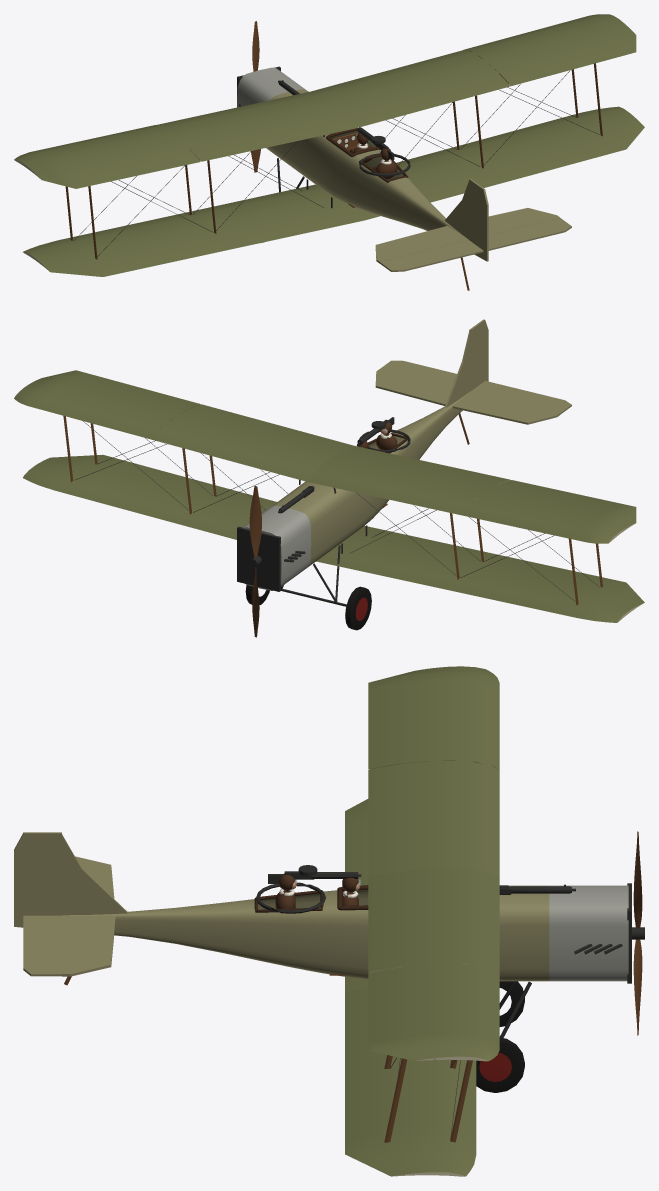
File: bristol_f2b.glb
3 renders of one model, top to bottom at view 1: azimuth 30°, elevation 25°; view 2: azimuth 150°, elevation 25°; view 3: azimuth 270°, elevation 25°, orthographic. The views are drawn at different scales.
Parts seen in each view (by area): view 1: Wing_Lower_L, Wing_Upper_R, Wing_Upper_L, Wing_Lower_R, Fuselage, Elevator, Aileron_L, Aileron_R, Stabilizer_L, Struts, Wires, Rudder (+5 smaller); view 2: Wing_Lower_L, Wing_Upper_R, Wing_Upper_L, Wing_Lower_R, Fuselage, Elevator, Engine, Stabilizer_L, Stabilizer_R, Struts, Wires, Aileron_L (+7 smaller); view 3: Fuselage, Wing_Upper_L, Wing_Upper_R, Wing_Lower_R, Rudder, Aileron_R, Aileron_L, Stabilizer_R, Wheels, Fin, Elevator, Wing_Lower_L (+7 smaller).
Boxes of the visible parts, <box> form: Wing_Lower_L: <box>23,184,364,276</box>; Wing_Upper_R: <box>311,14,628,128</box>; Wing_Upper_L: <box>14,91,355,175</box>; Wing_Lower_R: <box>353,106,644,220</box>; Fuselage: <box>237,67,468,239</box>; Elevator: <box>379,218,571,271</box>; Aileron_L: <box>34,148,200,188</box>; Aileron_R: <box>498,28,636,85</box>; Stabilizer_L: <box>375,226,468,263</box>; Struts: <box>65,63,602,259</box>; Wires: <box>74,70,599,256</box>; Rudder: <box>469,179,488,261</box>; Wing_Lower_L: <box>316,526,644,622</box>; Wing_Upper_R: <box>14,375,355,481</box>; Wing_Upper_L: <box>307,446,628,543</box>; Wing_Lower_R: <box>23,454,276,539</box>; Fuselage: <box>242,391,470,590</box>; Elevator: <box>380,360,571,414</box>; Engine: <box>237,526,305,591</box>; Stabilizer_L: <box>452,391,560,424</box>; Stabilizer_R: <box>375,369,451,405</box>; Struts: <box>63,416,602,605</box>; Wires: <box>74,421,599,601</box>; Aileron_L: <box>499,480,636,527</box>; Fuselage: <box>67,885,628,981</box>; Wing_Upper_L: <box>368,666,499,876</box>; Wing_Upper_R: <box>368,868,499,1061</box>; Wing_Lower_R: <box>345,988,476,1176</box>; Rudder: <box>14,832,61,927</box>; Aileron_R: <box>368,967,433,1060</box>; Aileron_L: <box>368,668,432,769</box>; Stabilizer_R: <box>62,915,115,976</box>; Wheels: <box>476,981,524,1092</box>; Fin: <box>62,834,127,915</box>; Elevator: <box>23,915,61,976</box>; Wing_Lower_L: <box>345,799,368,992</box>.
Bounding box in the file's own units: 11.96 × 3.24 × 8.17.
